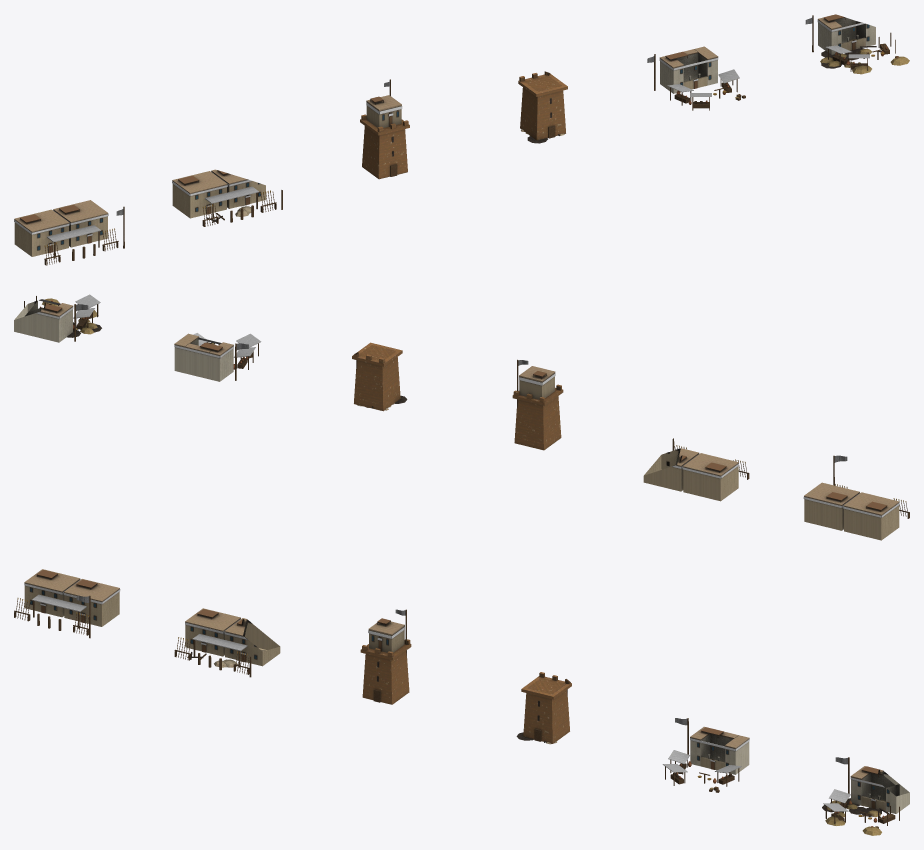
Rendered from rts-classical-nile.glb.
The picture shows the model from 3 angles, top to bottom: view 1: azimuth 30°, elevation 25°; view 2: azimuth 150°, elevation 25°; view 3: azimuth 330°, elevation 25°; orthographic projection.
Parts seen in each view (by area): view 1: LOD0, LOD0.001, LOD0.002, LOD0.005, LOD0.004, LOD0.003; view 2: LOD0, LOD0.001, LOD0.002, LOD0.004, LOD0.005, LOD0.003; view 3: LOD0, LOD0.001, LOD0.005, LOD0.002, LOD0.004, LOD0.003.
Boxes of the visible parts, x1,y1,x2,y2 form: LOD0: (14,200,124,265); LOD0.001: (172,169,282,226); LOD0.002: (360,79,409,179); LOD0.005: (805,14,909,74); LOD0.004: (647,46,745,110); LOD0.003: (518,71,567,143); LOD0: (803,455,909,540); LOD0.001: (643,438,749,501); LOD0.002: (512,359,563,450); LOD0.004: (174,333,261,381); LOD0.005: (14,294,101,342); LOD0.003: (352,342,407,411); LOD0: (14,569,120,638); LOD0.001: (174,608,280,677); LOD0.005: (822,757,909,835); LOD0.002: (360,609,411,704); LOD0.004: (662,718,749,792); LOD0.003: (516,672,571,744).
Size of what is drawn, in the model's own units: 16.33 by 1.48 by 1.36.
Materials: 2 (2 with a texture image).
